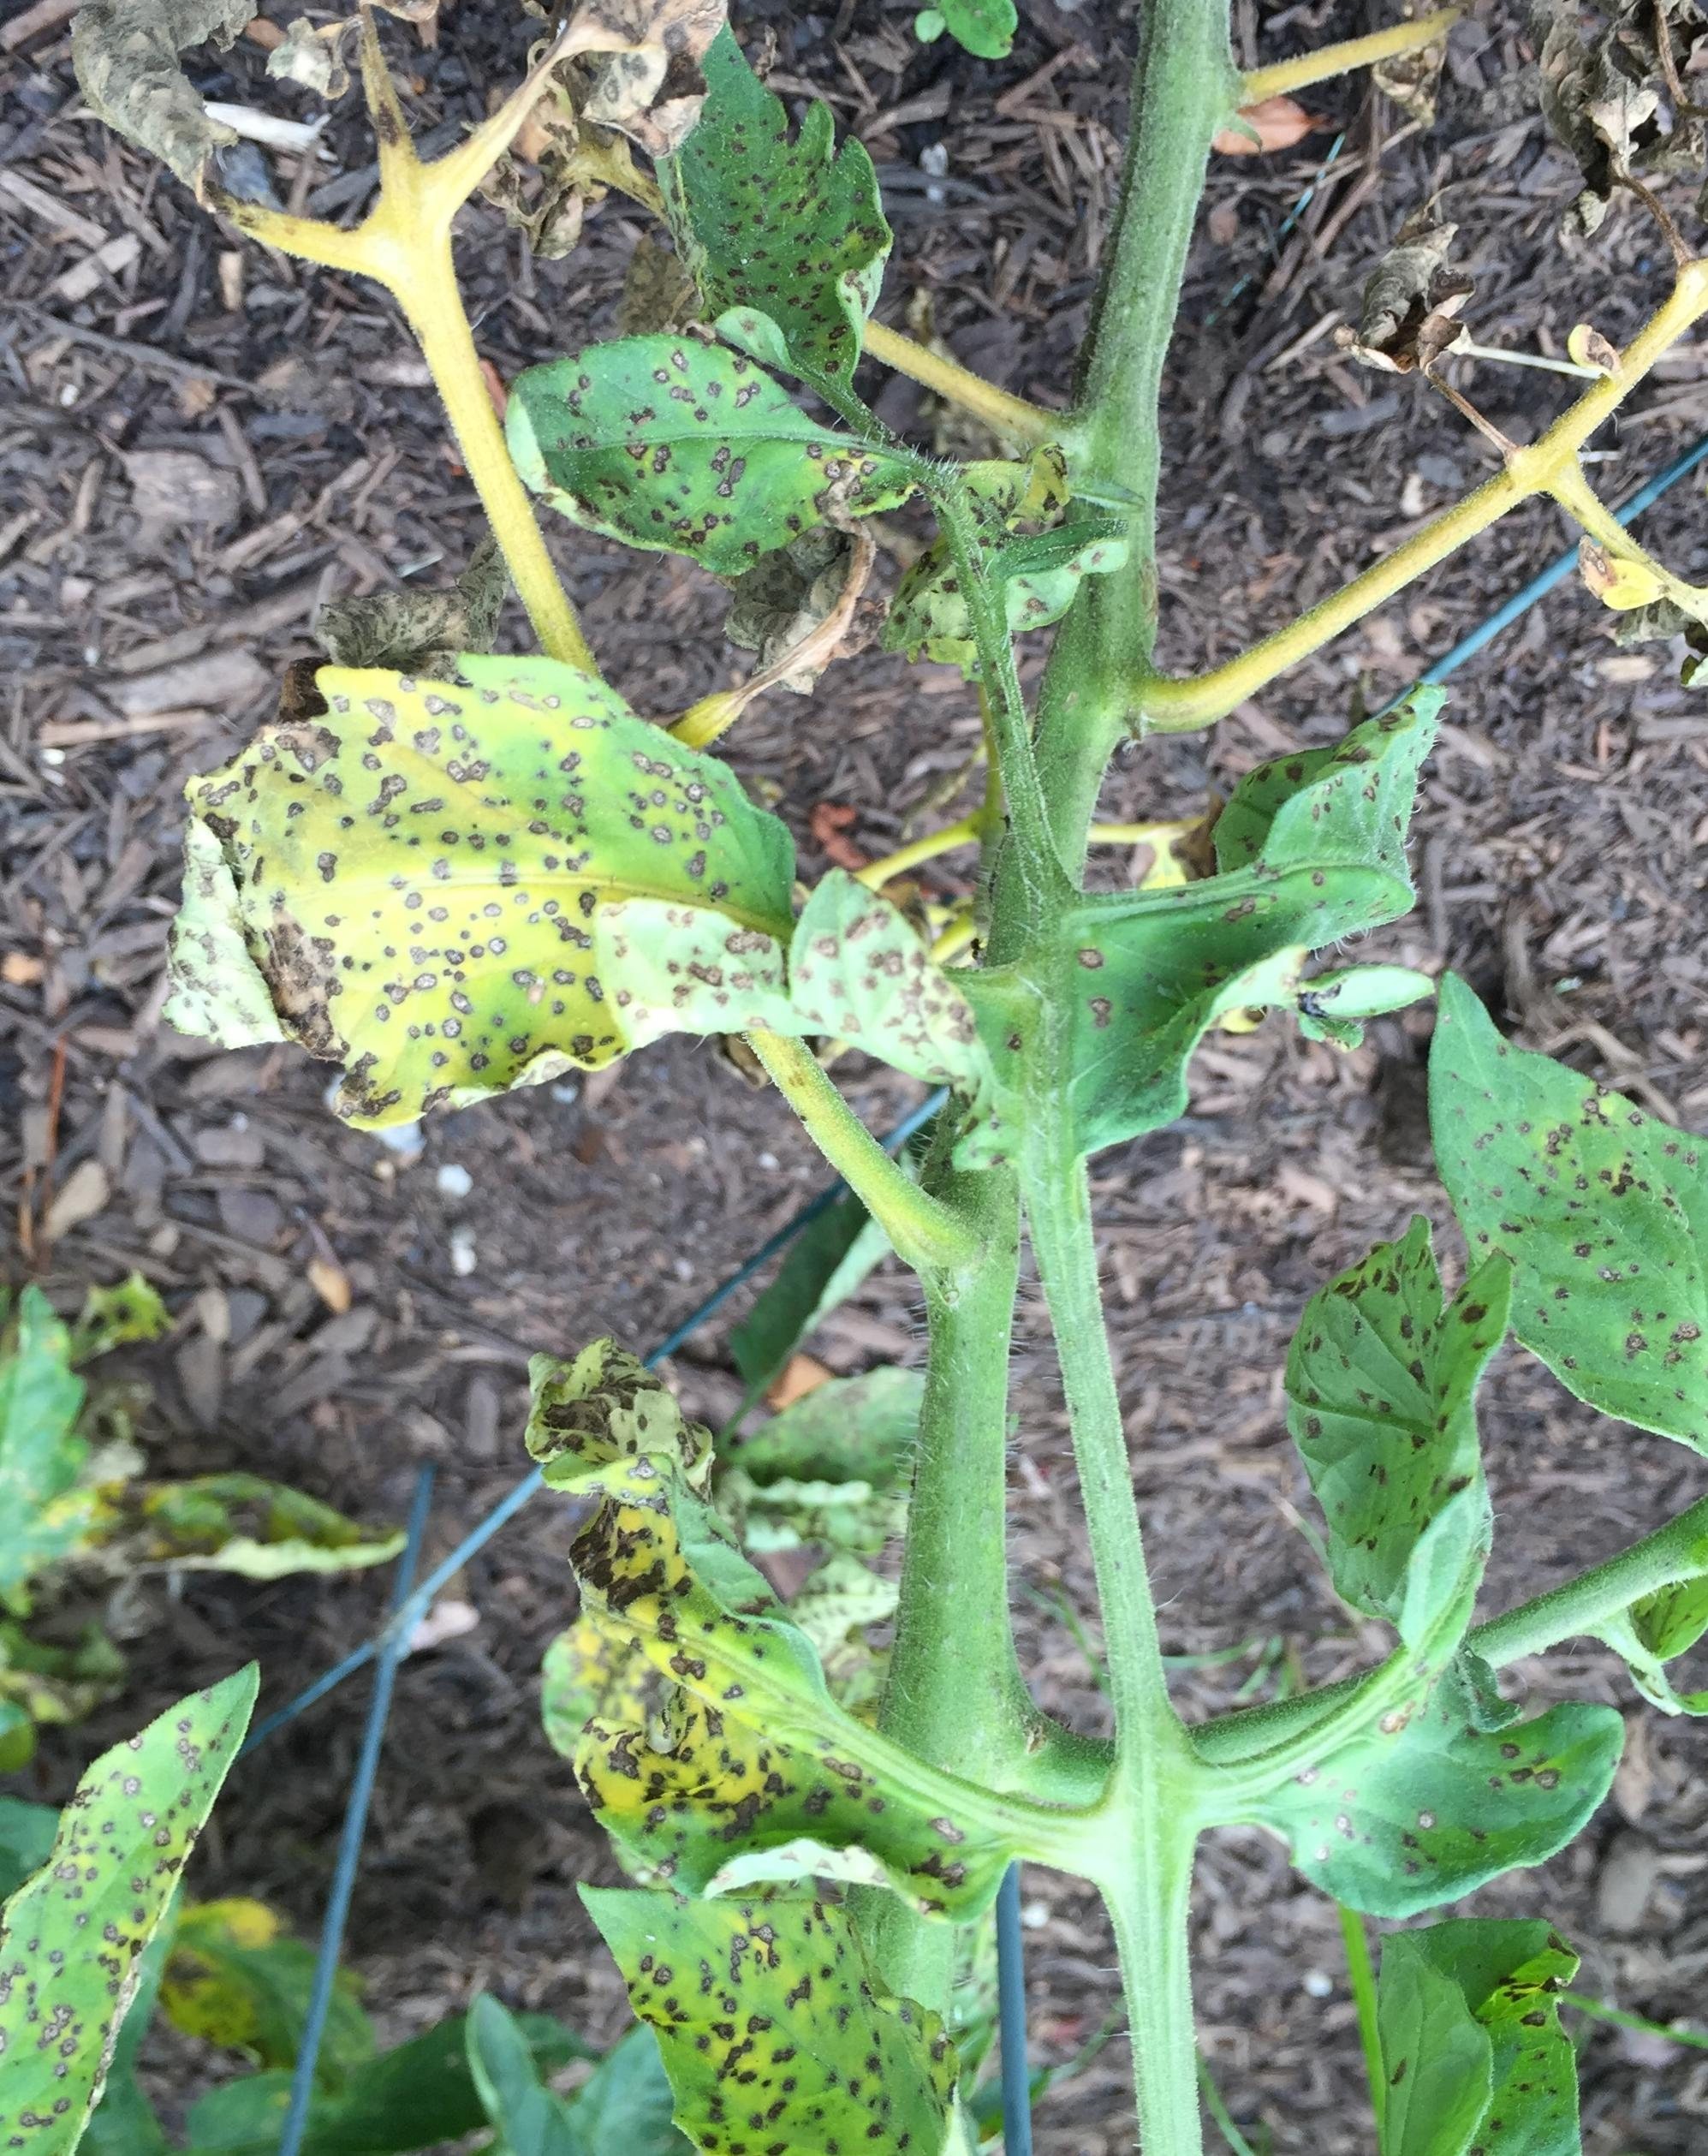Tomato Septoria leaf spot: (38, 623, 1073, 1125), (507, 1328, 1039, 1904), (1036, 667, 1438, 1176), (1388, 947, 1708, 1472), (556, 1871, 1115, 2156), (639, 7, 992, 394), (0, 1668, 268, 2156), (427, 315, 915, 583), (1255, 1221, 1535, 1671)
